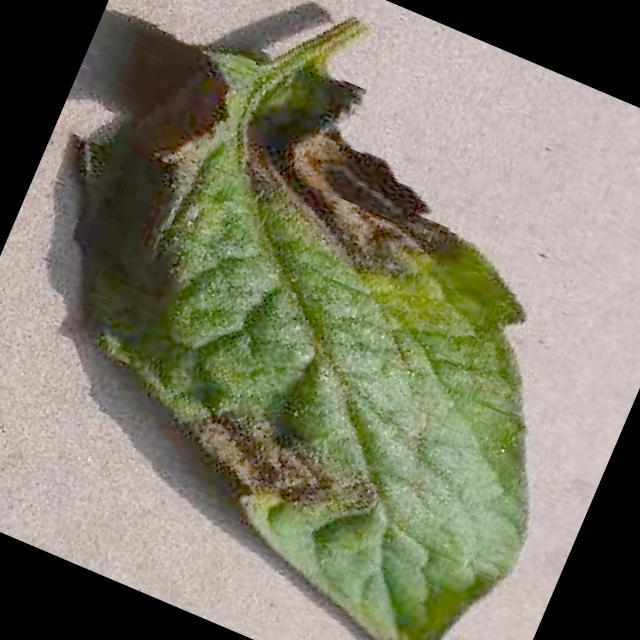Tomato late blight leaf: (0, 22, 640, 640)
